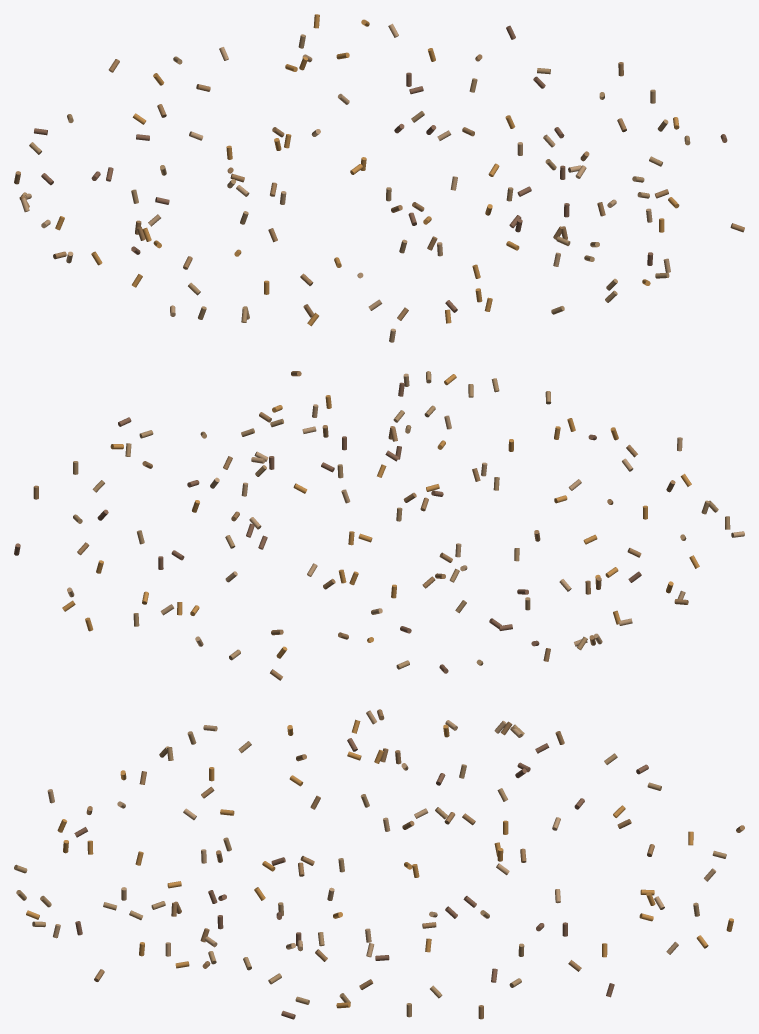
The model's file is choco_round1.glb.
3 renders of one model, top to bottom at view 1: azimuth 30°, elevation 25°; view 2: azimuth 150°, elevation 25°; view 3: azimuth 270°, elevation 25°, orthographic. The views are drawn at different scales.
Size of the model in its own units: 2.73 by 0.0539 by 2.76.
